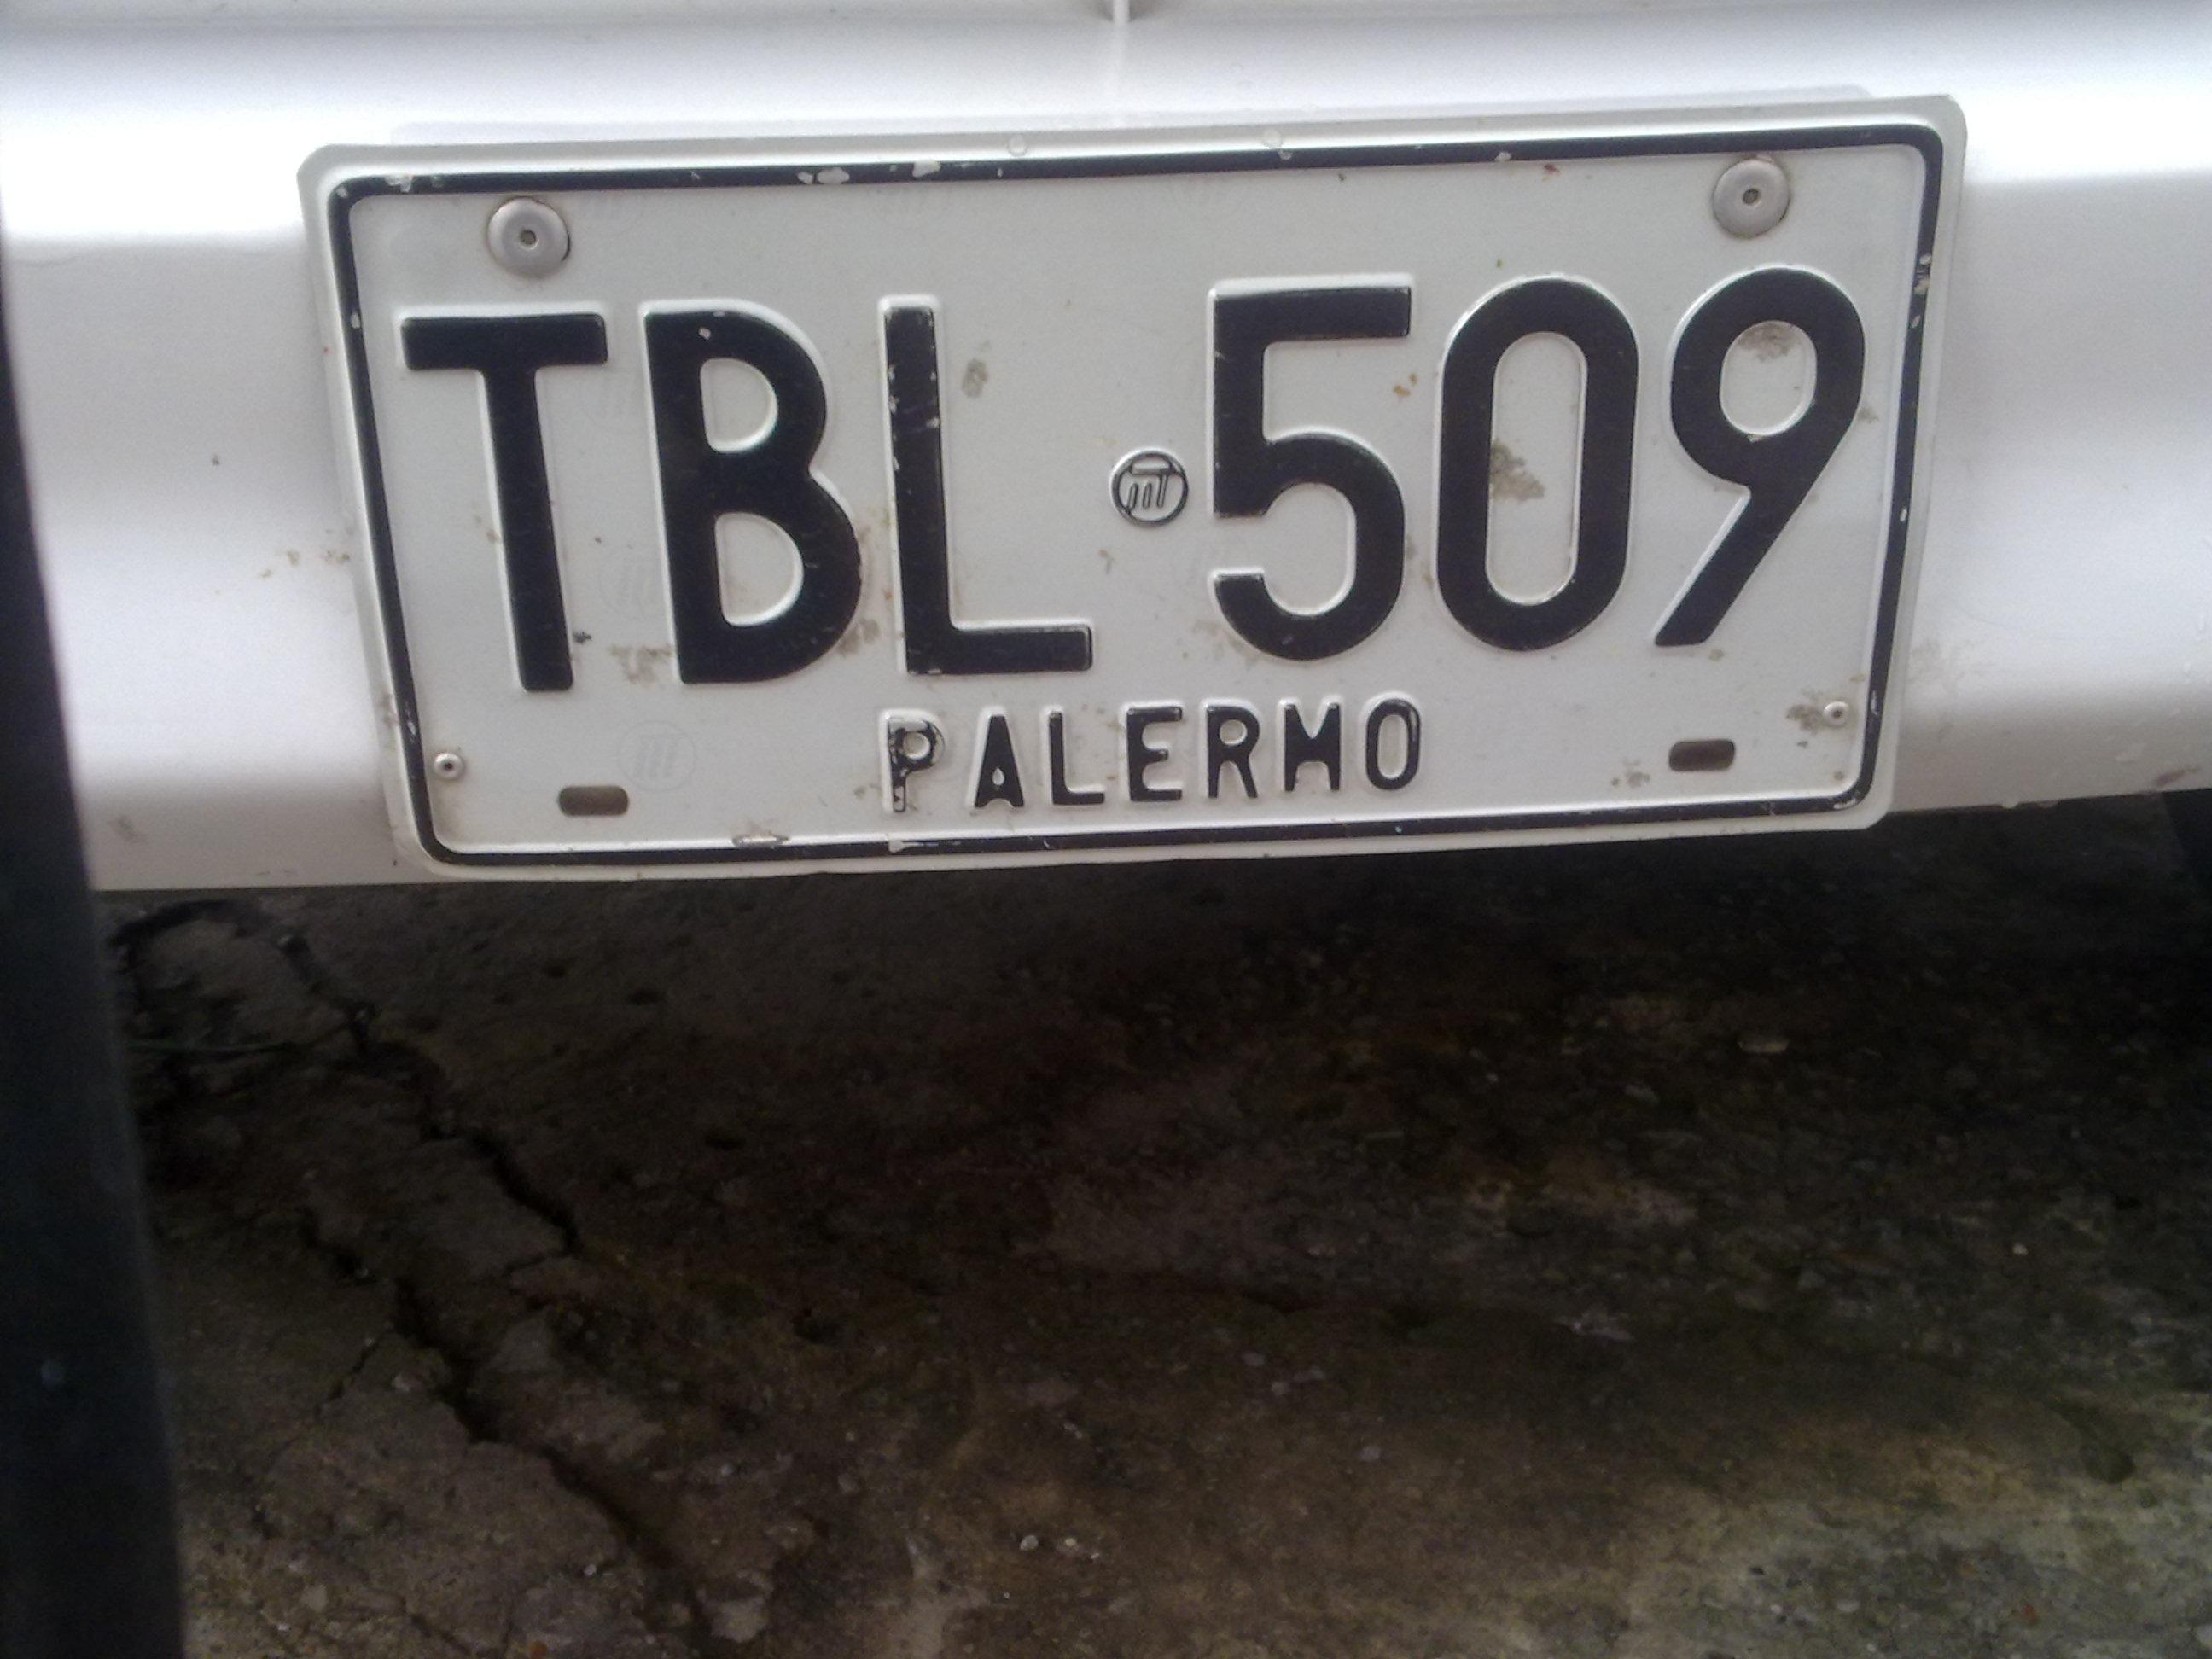placas: (284, 93, 1974, 888)
